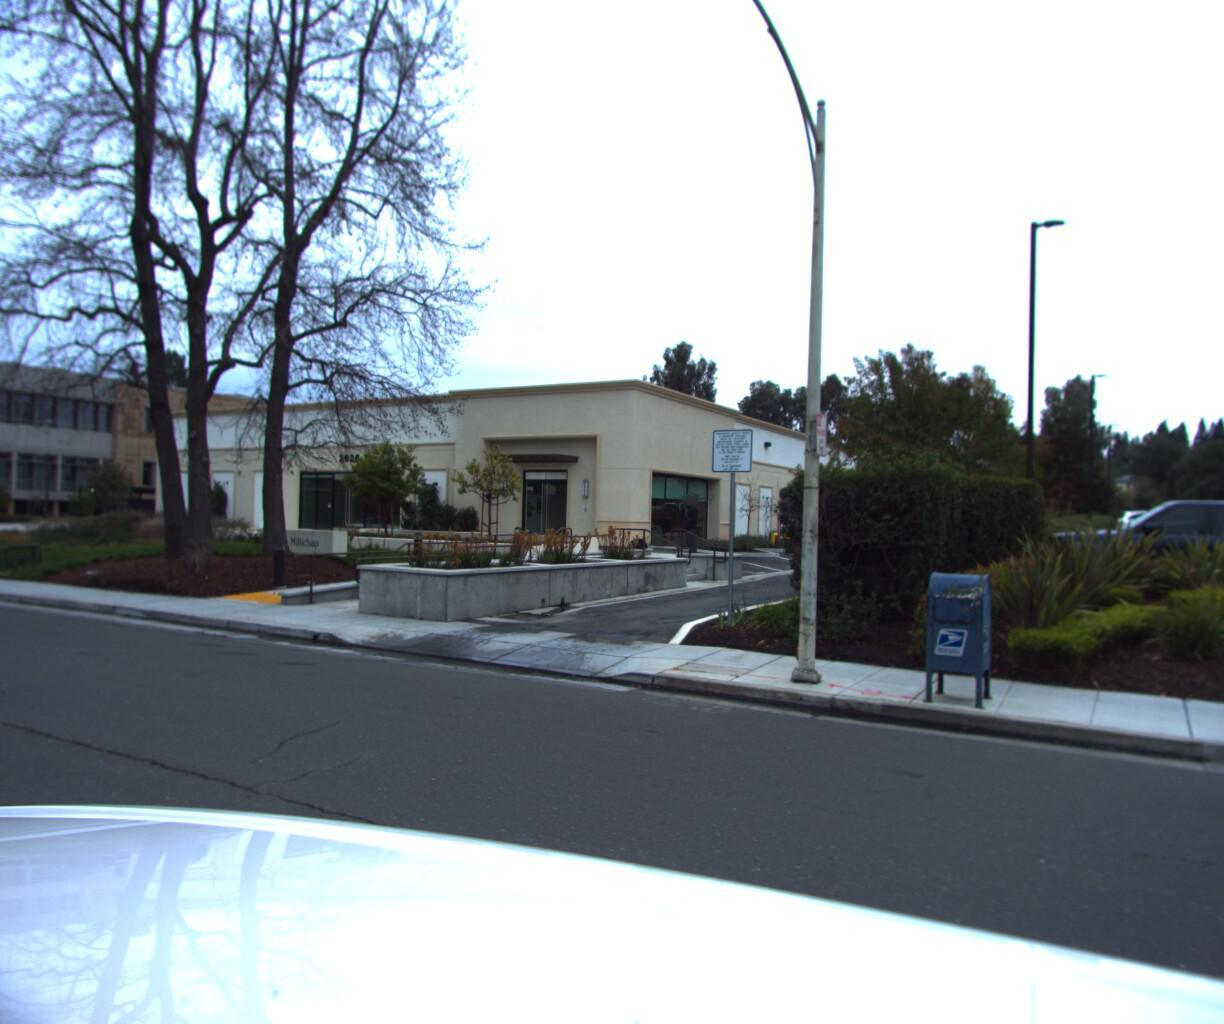car: (1030, 497, 1224, 613)
